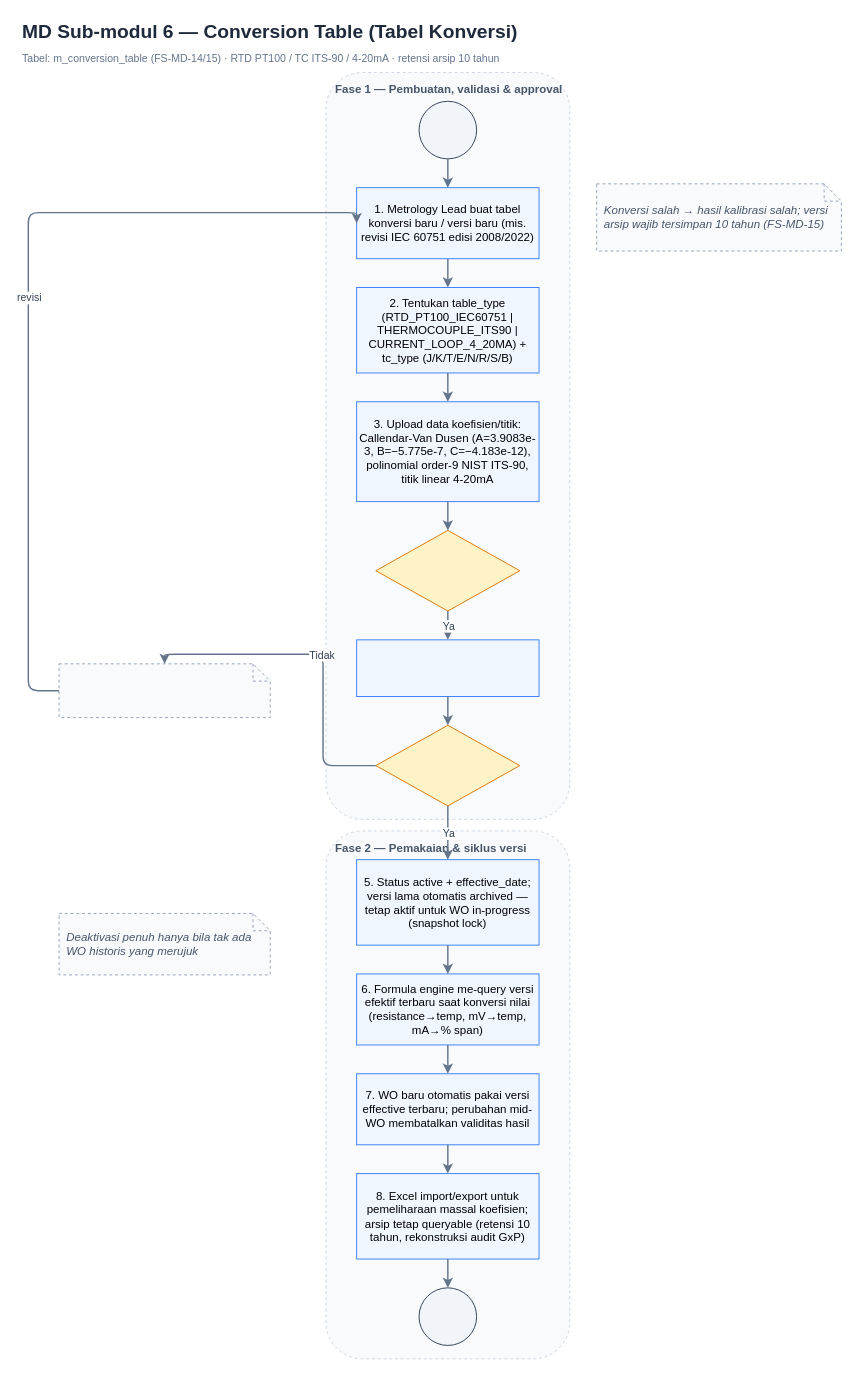
Image size: 858x1376. Some labels were removed from this diagram. The shapes that lost their labels are listed below. From the top down, each one's centre as x and y in pixels, then its label:
At (447,129): "Mulai".
At (447,570): "Struktur data & versi unik?".
At (447,667): "4. Submit → pending_approval → workflow approval Metrology Lead → QO Manager".
At (164,690): "Kembali draft revisi".
At (447,765): "Approved?".
At (447,1316): "Selesai".
